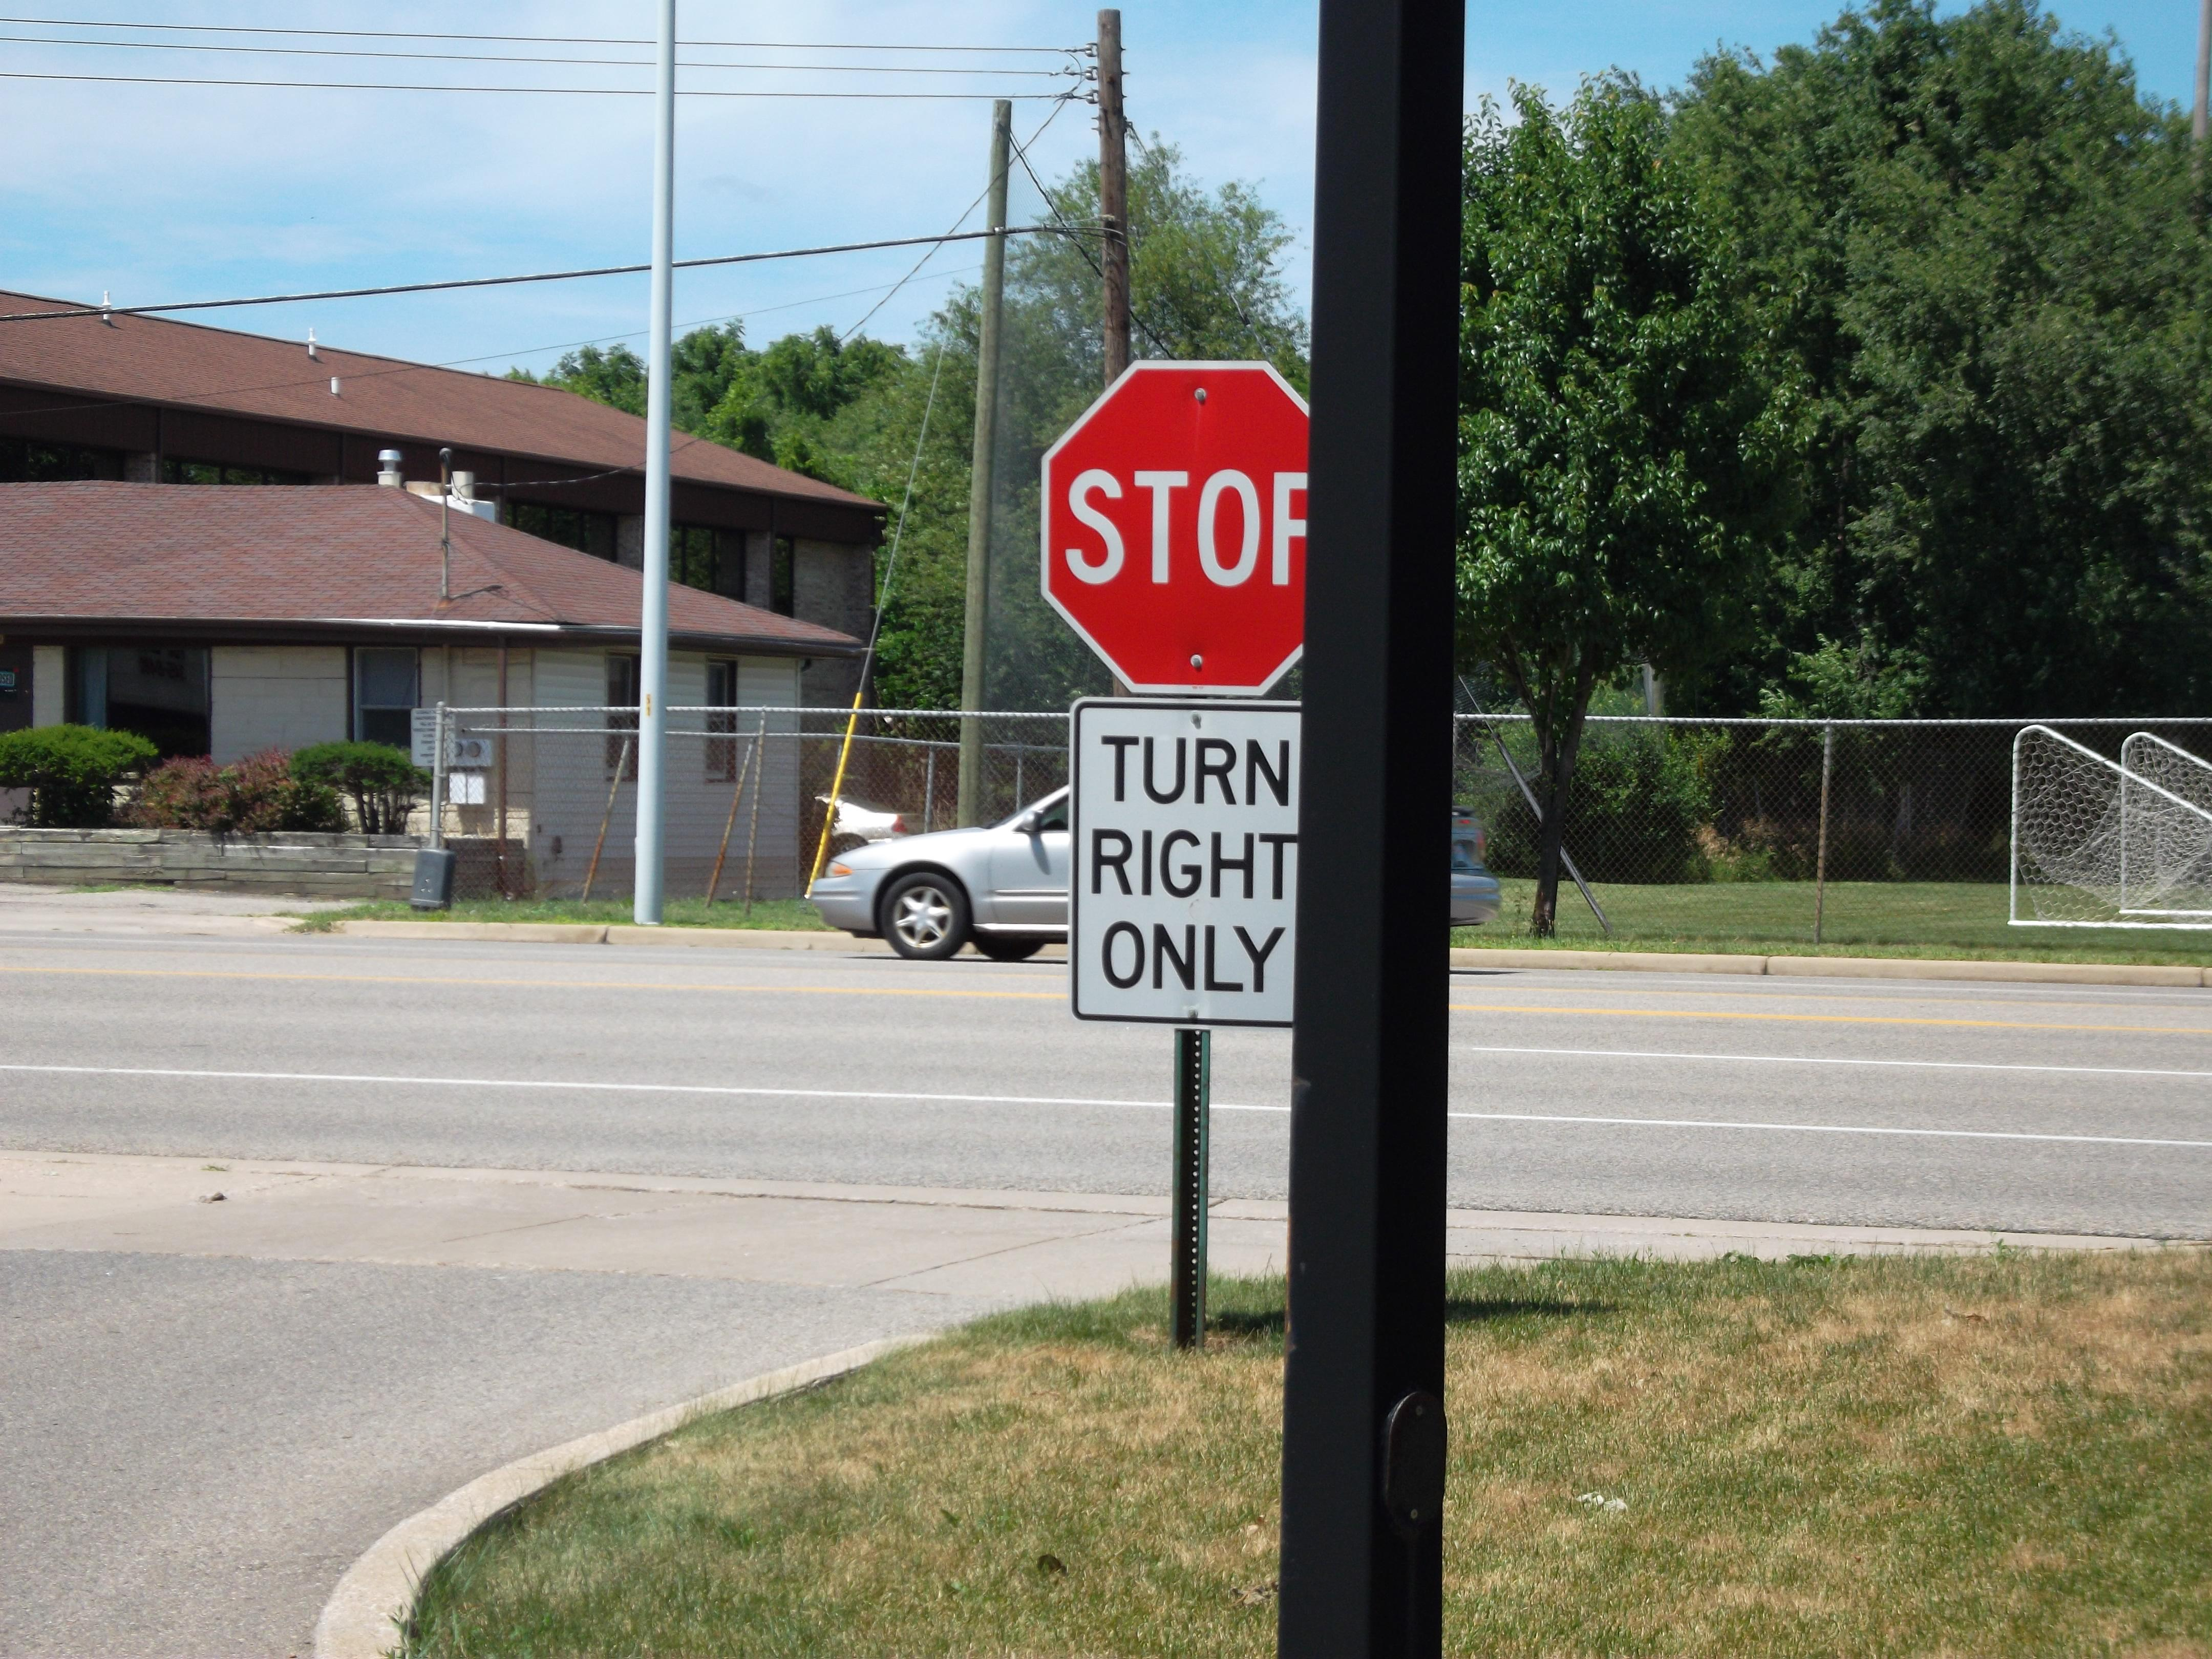regulatory: (1062, 701, 1303, 1035)
stop: (1035, 322, 1306, 694)
